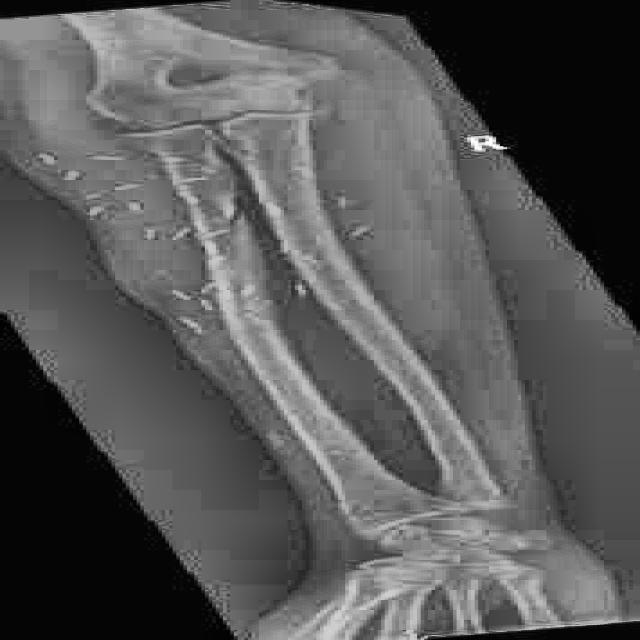forearm fracture: (190, 196, 316, 258)
